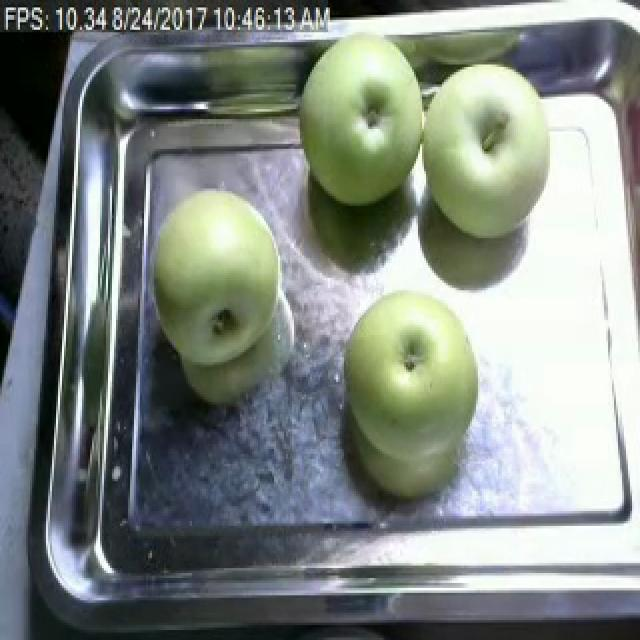50-_ripeness: (340, 287, 485, 474), (290, 23, 424, 215), (416, 66, 558, 237), (151, 187, 284, 365)
